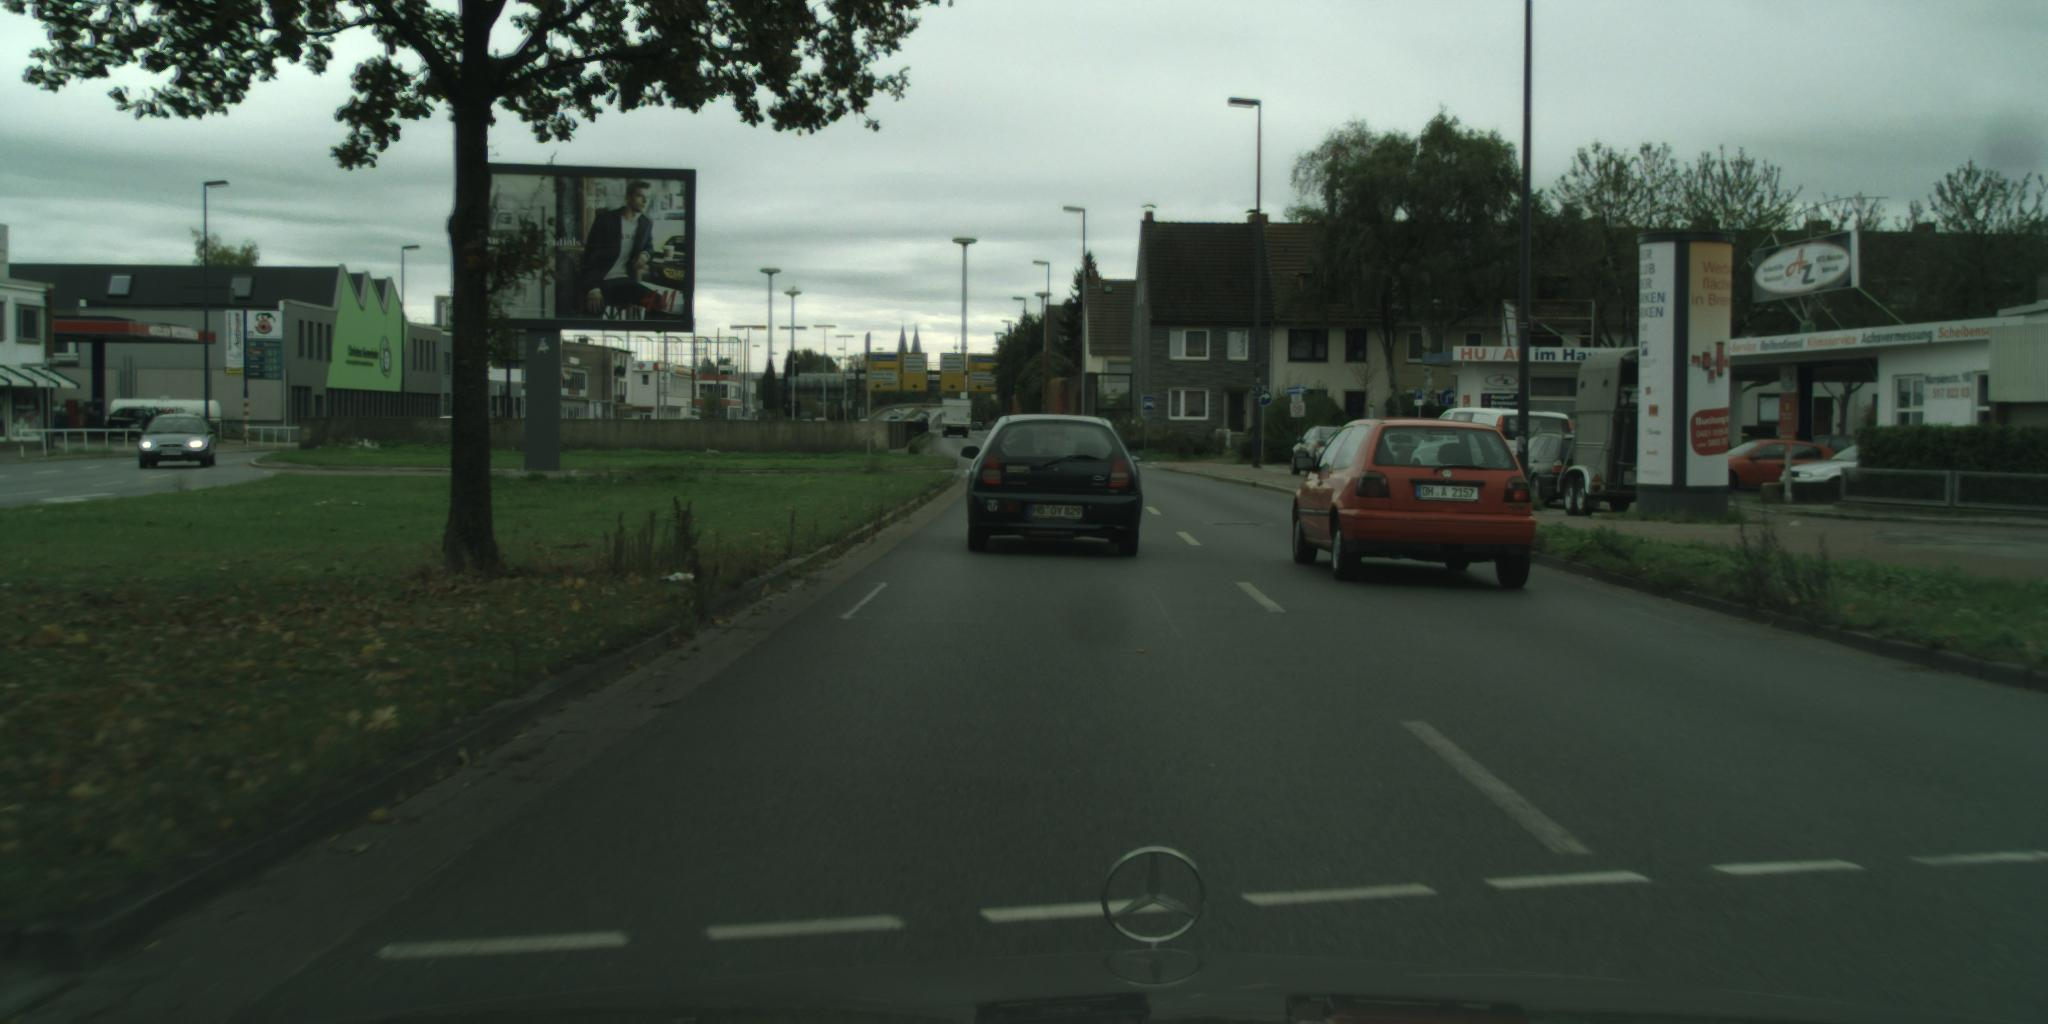car: (1292, 418, 1539, 593), (963, 415, 1145, 559), (1512, 347, 1651, 519), (1437, 408, 1573, 470), (1723, 439, 1838, 494), (138, 413, 217, 472), (1780, 444, 1872, 490), (1289, 426, 1343, 475), (104, 406, 163, 436), (1813, 434, 1863, 461), (967, 423, 985, 432)
truck: (112, 398, 225, 432), (942, 398, 973, 439)
